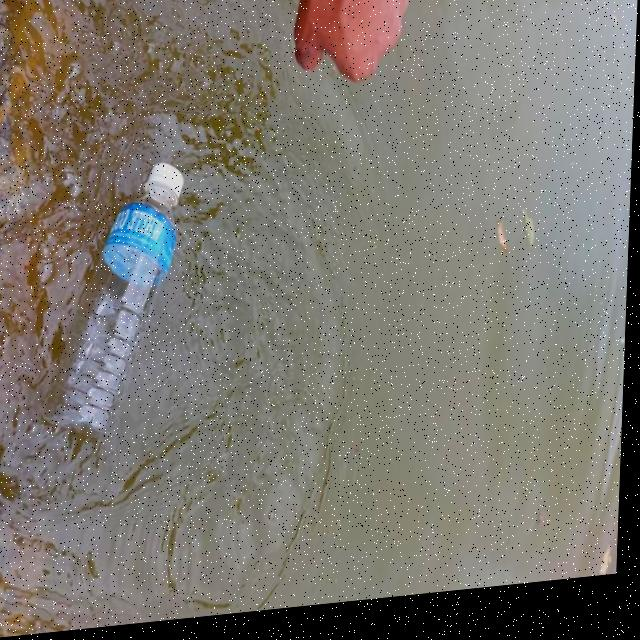waterbottle: (0, 152, 187, 463)
